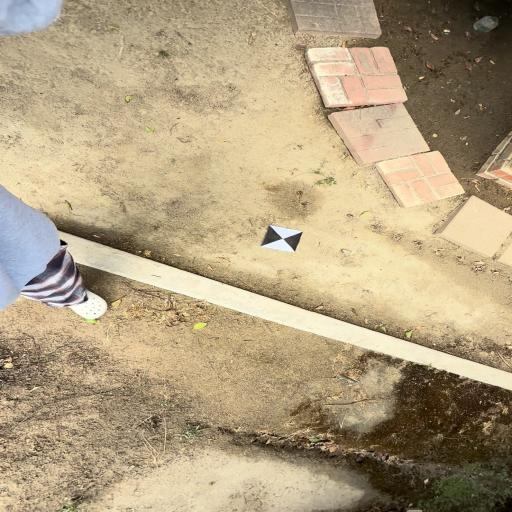target: (260, 225, 303, 252)
